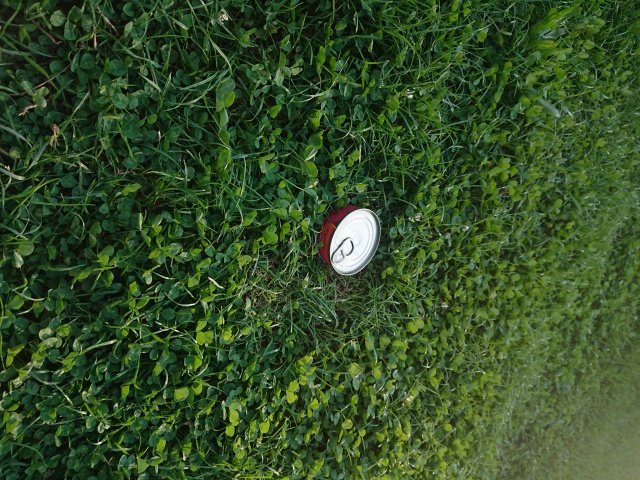Gavrilovic Pork Liver Pate 100g: (312, 203, 382, 278)
